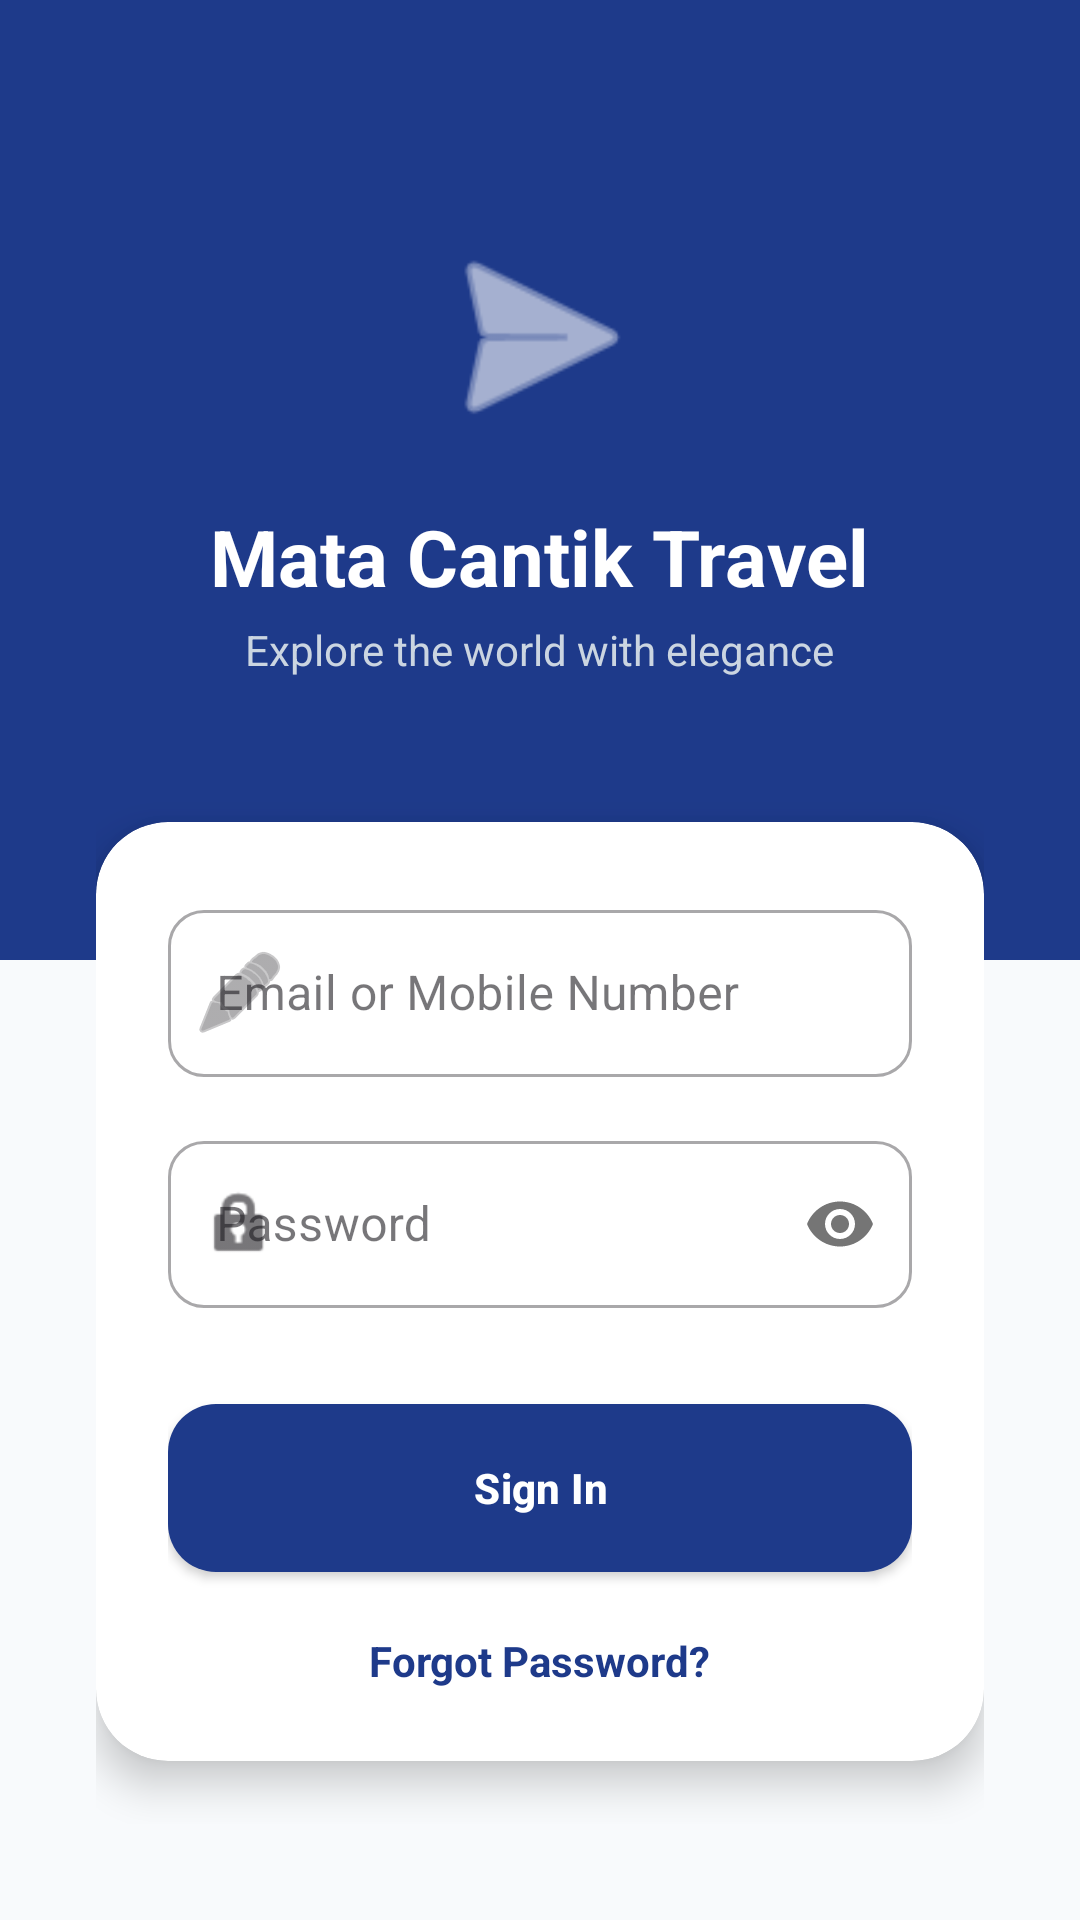

Point at icon controls on the screen. Image size 1080px×1920px, points as [x,y].
send: [542,337]
